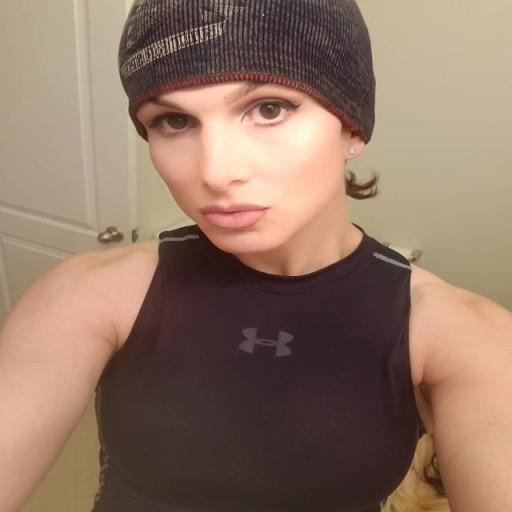Under Armour: (233, 322, 298, 360)
